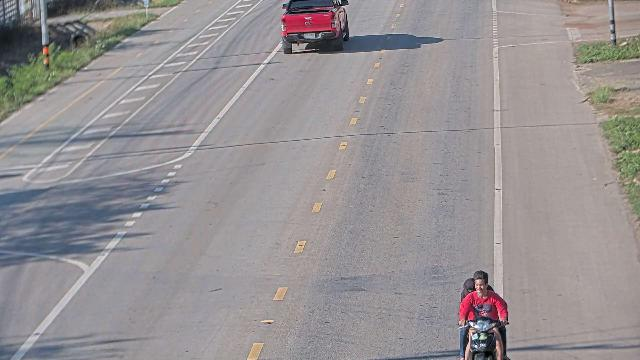motorcycle: (456, 272, 511, 360)
pickup-truck: (280, 0, 350, 54)
